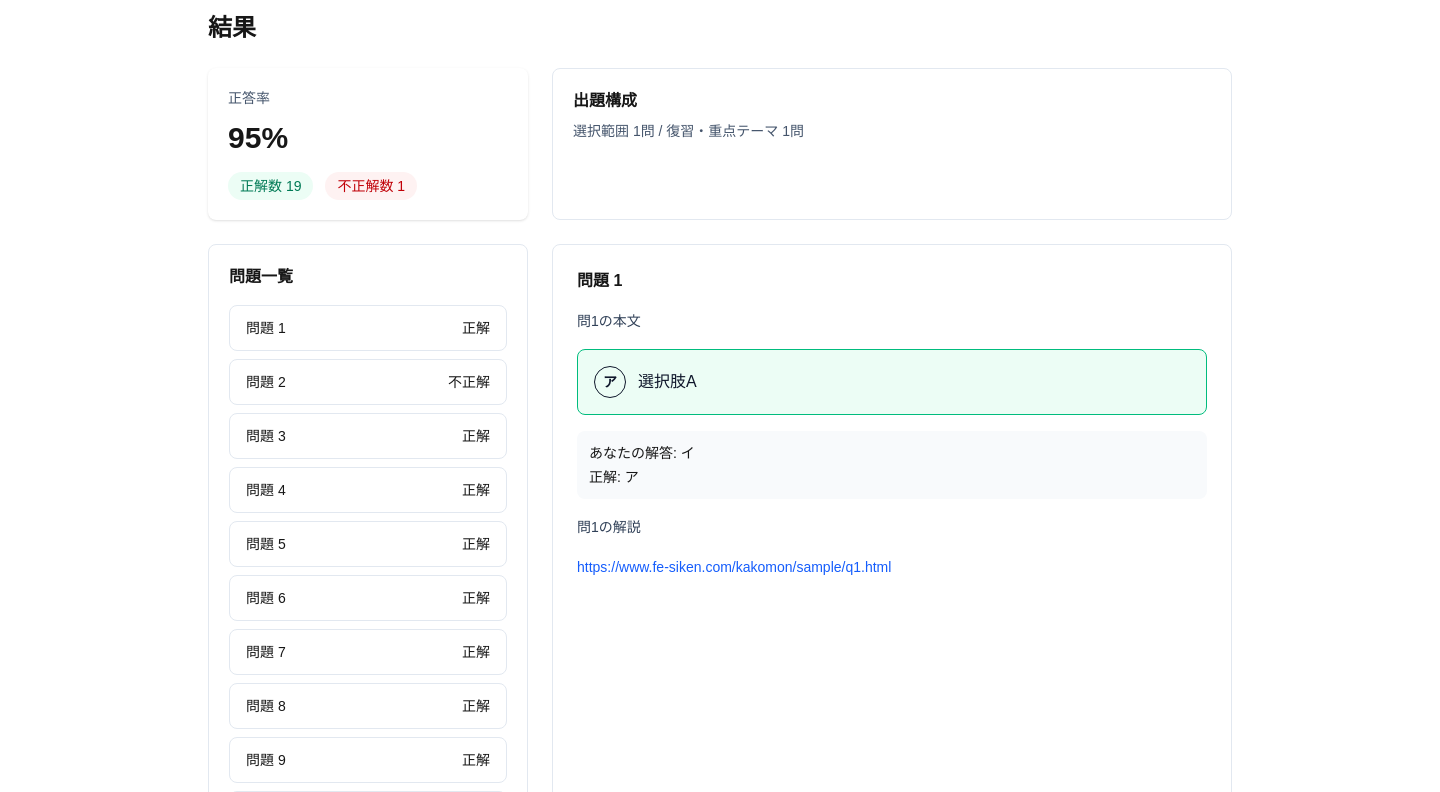
QuizResultView › renders desktop result with all question statuses and selected detail
This screenshot has width=1440, height=792.
expect the text "問1の解説" is shown: met, box [577,519,641,535]
Click the button "問題 2 不正解" at (262, 382), box [229,359,507,405]
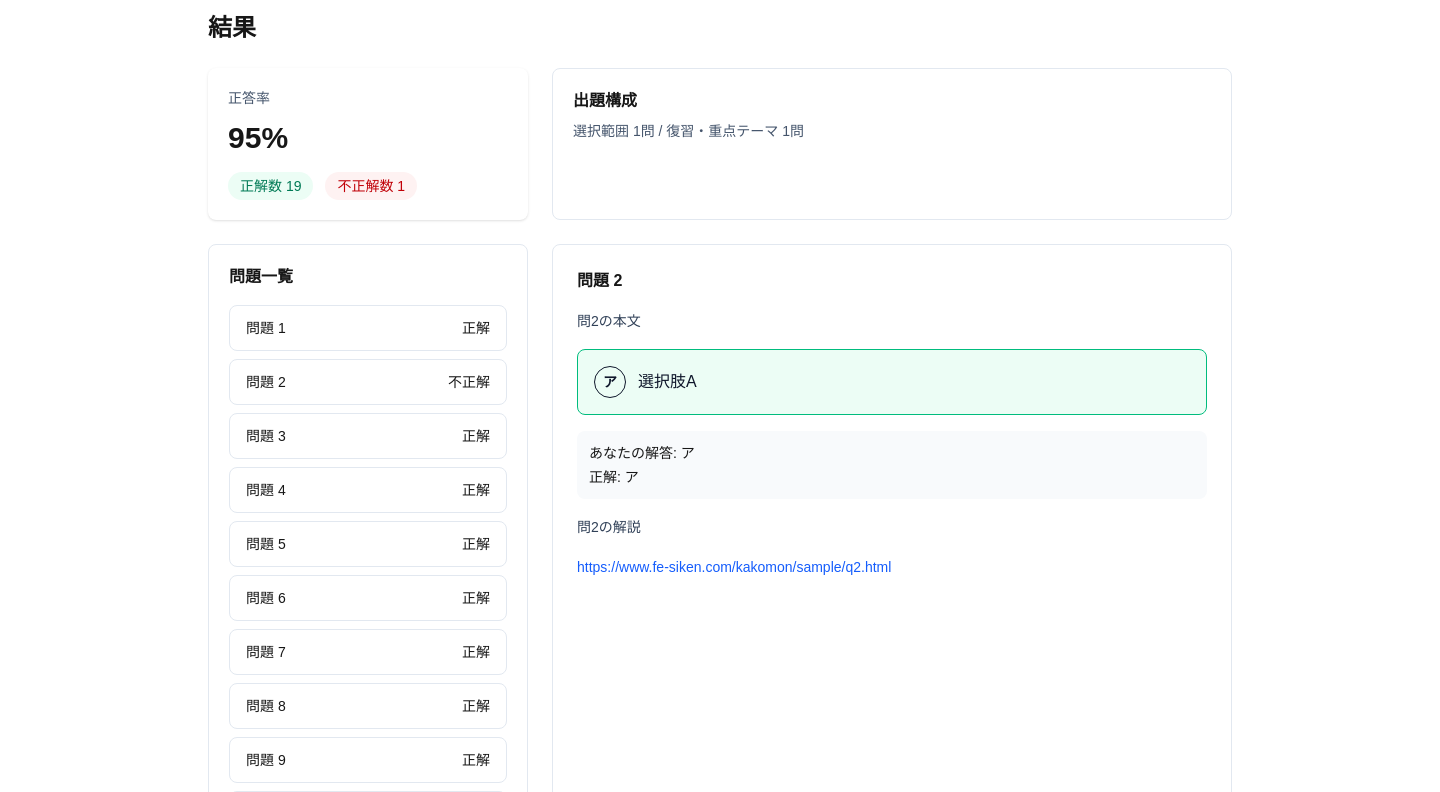
expect the text "問2の解説" is shown: met, box [577,519,641,535]
expect the text "問2の本文" is shown: met, box [577,313,641,329]
expect the text "あなたの解答: ア" is shown: met, box [589,445,695,461]
